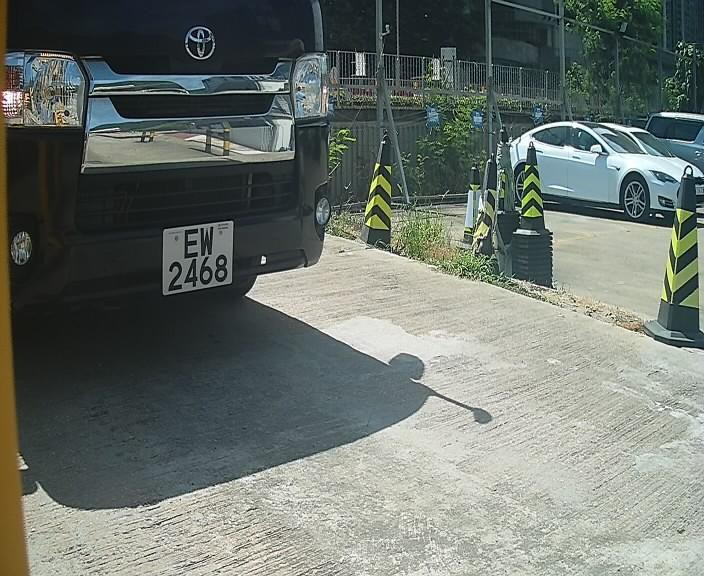privatecar: (10, 1, 337, 350)
